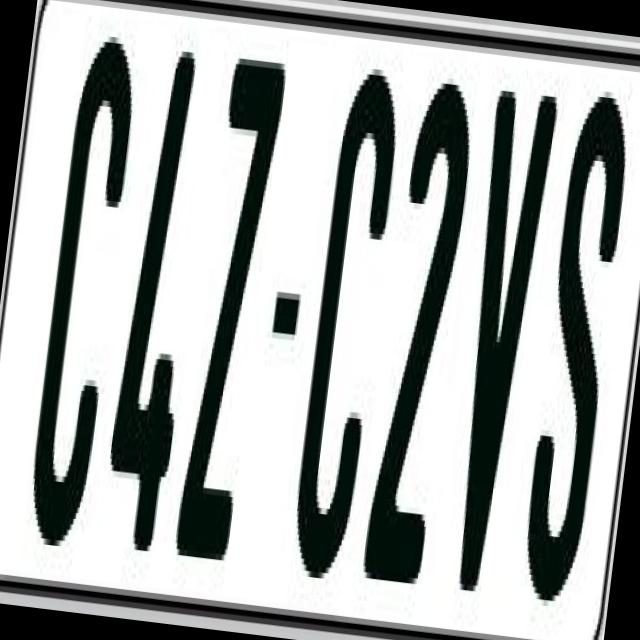2: (360, 63, 484, 596)
4: (95, 36, 220, 541)
C: (281, 59, 401, 592), (22, 33, 140, 542)
S: (512, 82, 639, 616)
V: (433, 83, 558, 600)
Z: (172, 39, 292, 566)
